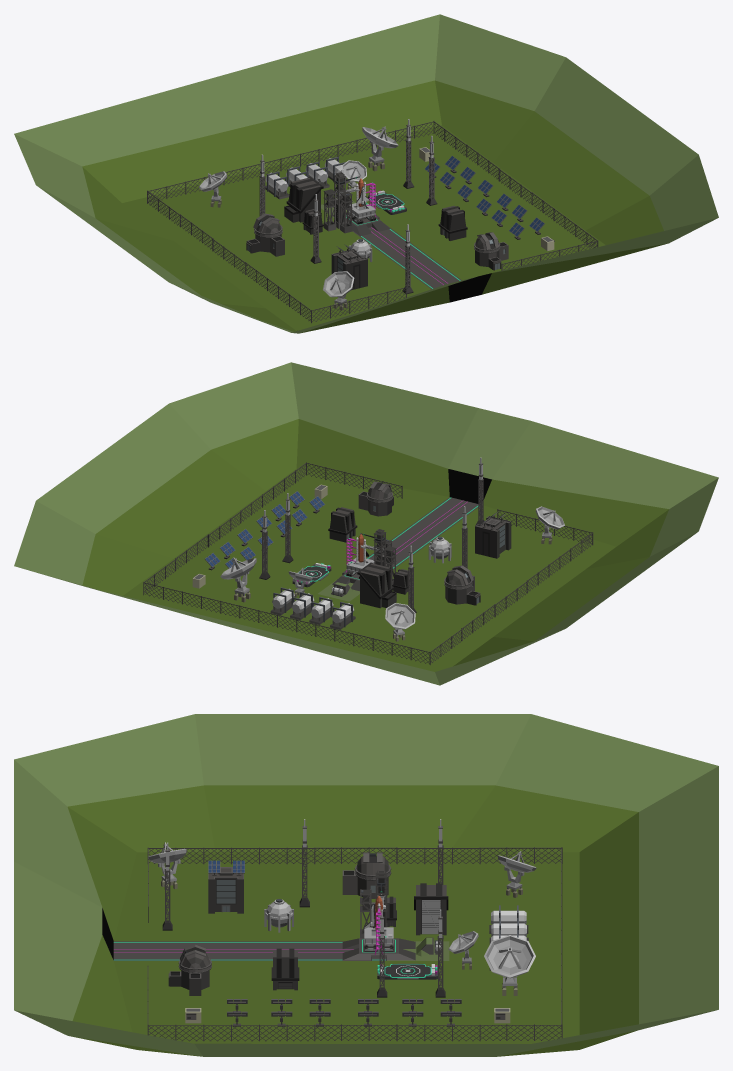
File: Launchpad.gltf
3 renders of one model, top to bottom at view 1: azimuth 30°, elevation 25°; view 2: azimuth 150°, elevation 25°; view 3: azimuth 270°, elevation 25°, orthographic. The views are drawn at different scales.
Visible parts, largest first — view 1: SM_Bld_Observatory_01_398.001; view 2: SM_Bld_Observatory_01_398.001; view 3: SM_Bld_Observatory_01_398.001.
Part boxes in pixels (left/top/right/bottom): SM_Bld_Observatory_01_398.001: left=14, top=14, right=718, bottom=333; SM_Bld_Observatory_01_398.001: left=14, top=362, right=718, bottom=685; SM_Bld_Observatory_01_398.001: left=14, top=714, right=718, bottom=1056.
Size of the model in its own units: 497 by 61.53 by 452.
Materials: 3 (2 with a texture image).
